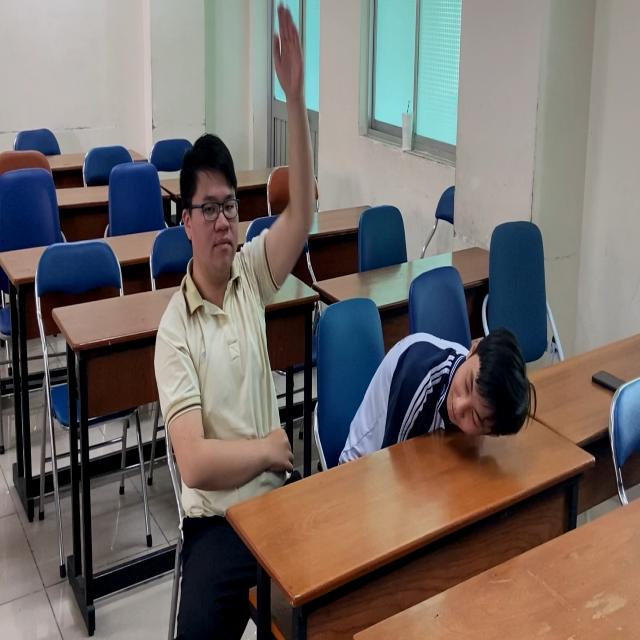raise_hand: (121, 1, 340, 528)
sleep: (346, 329, 533, 506)
